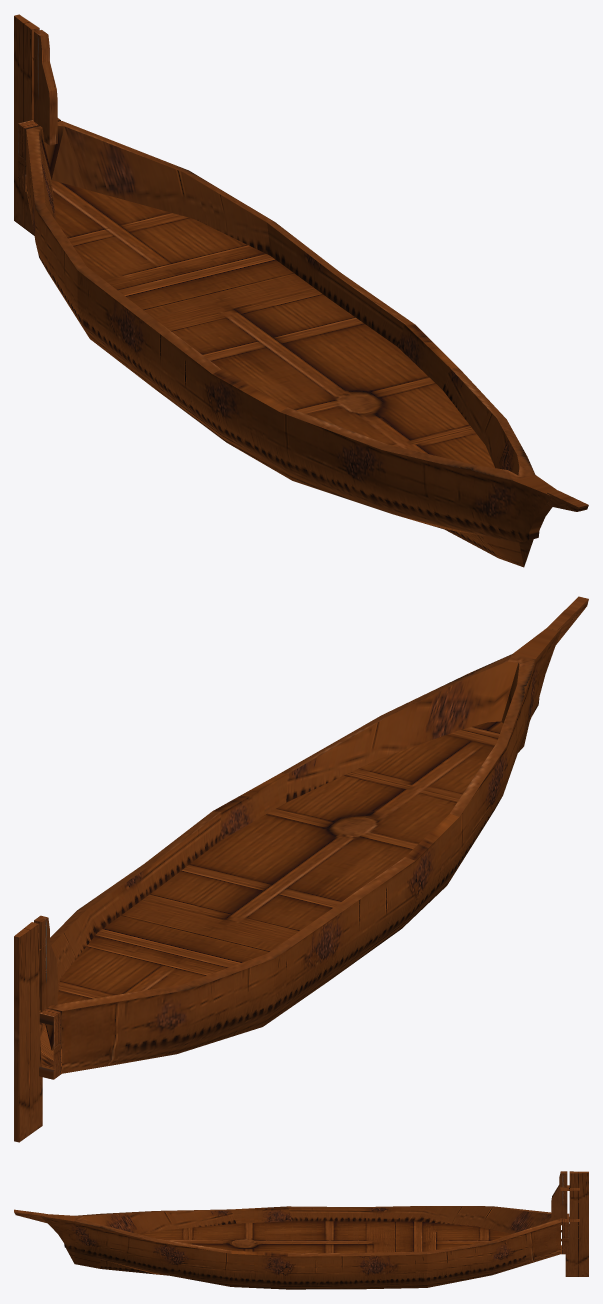
Rendered from ship_long.dae.
3 views of the same model, one above another, from view 1: azimuth 30°, elevation 25°; view 2: azimuth 150°, elevation 25°; view 3: azimuth 270°, elevation 25° (orthographic). The views are drawn at different scales.
Visible parts, largest first — view 1: ship_arrow; view 2: ship_arrow; view 3: ship_arrow.
Boxes of the visible parts, left/top/right/bottom form: ship_arrow: left=14, top=14, right=588, bottom=567; ship_arrow: left=14, top=596, right=588, bottom=1142; ship_arrow: left=14, top=1171, right=588, bottom=1289.
Size of the model in its own units: 6.32 by 30.58 by 6.41.
